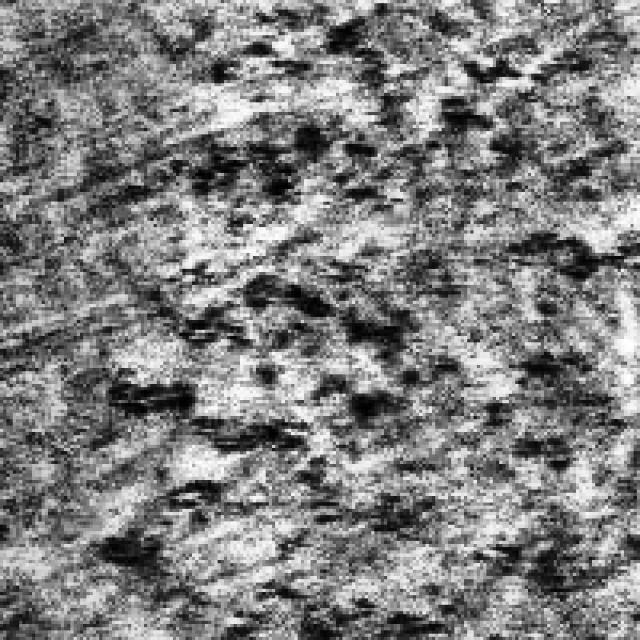Crazing: (100, 230, 444, 573), (464, 176, 627, 602), (144, 7, 483, 202)
